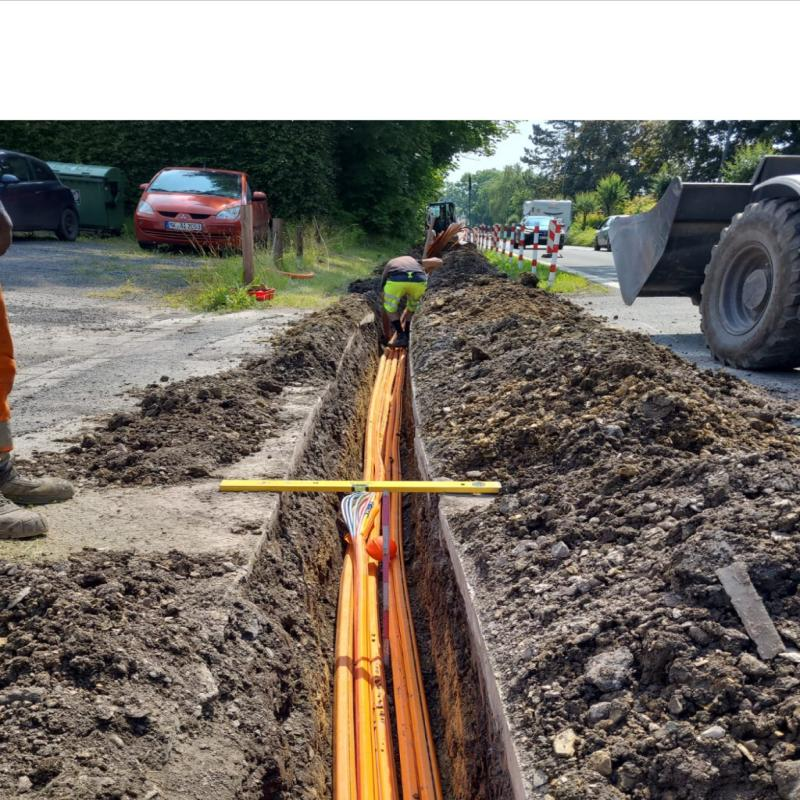Kugelmarker: (366, 537, 397, 560)
Orang-Speednetrohrchen: (334, 354, 443, 800)
